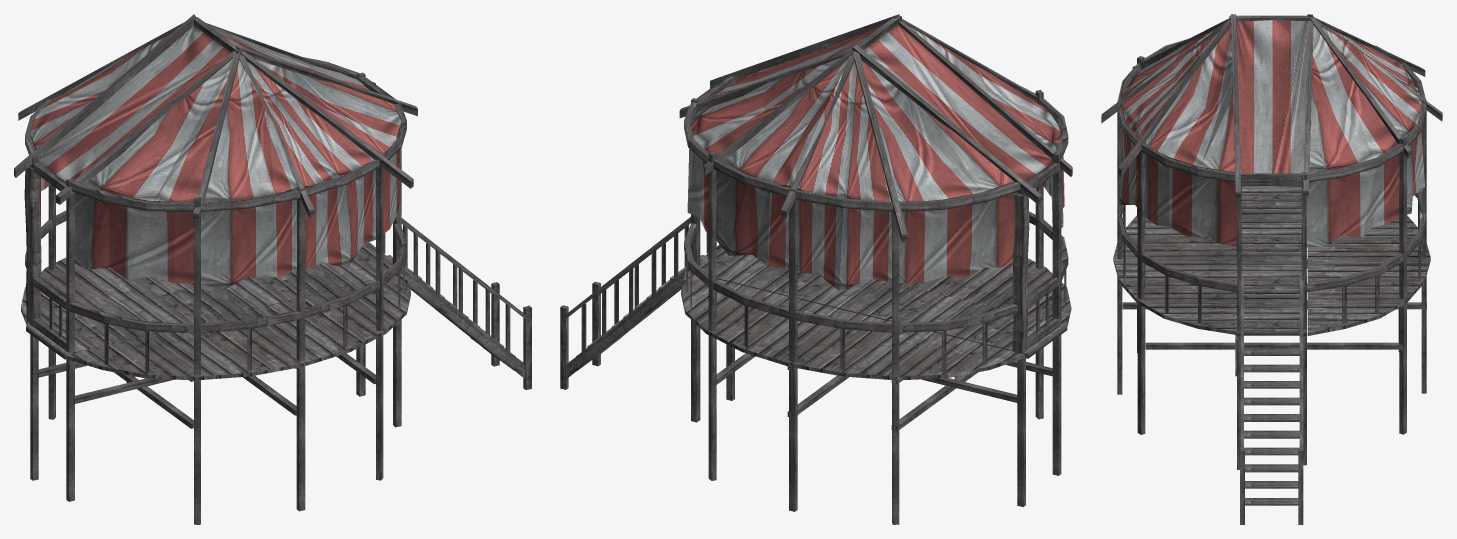
Rendered from v3_balcony2.dae.
3 renders of one model, left to right at view 1: azimuth 30°, elevation 25°; view 2: azimuth 150°, elevation 25°; view 3: azimuth 270°, elevation 25°, orthographic. The views are drawn at different scales.
Visible parts, largest first — view 1: woodPlanks, cloth_001_c; view 2: woodPlanks, cloth_001_c; view 3: woodPlanks, cloth_001_c.
Part boxes in pixels (<box>): woodPlanks: <box>14,14,531,524</box>; cloth_001_c: <box>30,25,401,289</box>; woodPlanks: <box>560,14,1072,524</box>; cloth_001_c: <box>687,25,1064,290</box>; woodPlanks: <box>1101,14,1442,524</box>; cloth_001_c: <box>1119,20,1424,247</box>.
Bounding box in the file's own units: 13.94 × 11.67 × 9.44.
